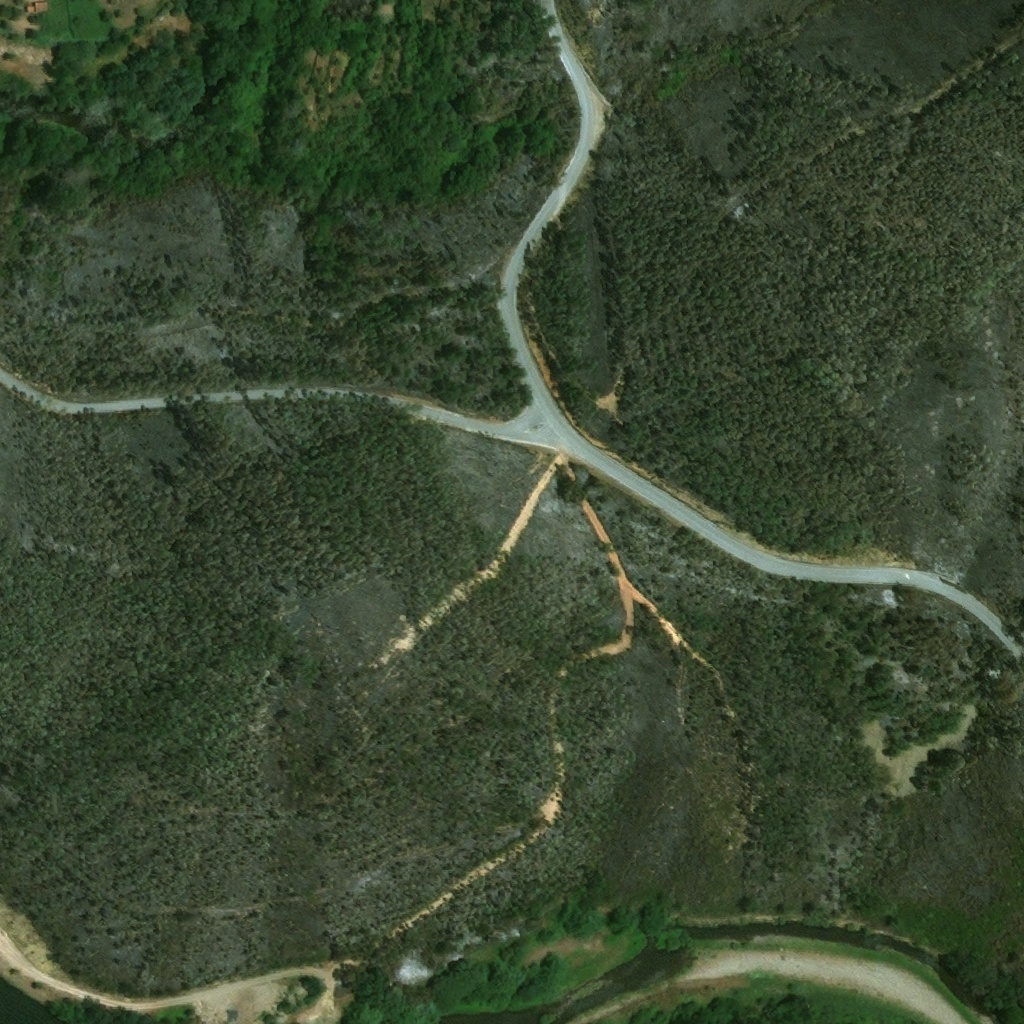4 un-classified: (27, 2, 49, 14)
